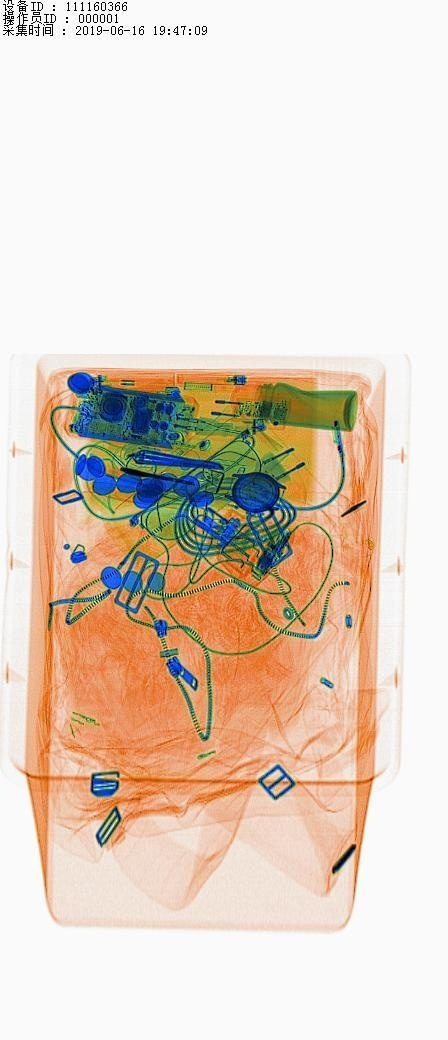NonmetallicFire: (83, 364, 181, 407), (189, 410, 286, 452), (180, 361, 260, 402)
